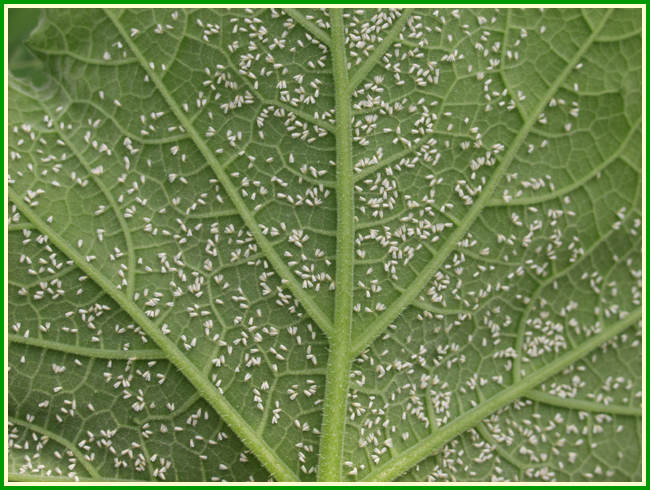whitefly: (220, 102, 229, 114), (288, 152, 295, 165), (353, 302, 361, 313), (261, 288, 272, 296), (416, 97, 425, 106), (256, 118, 264, 128), (207, 125, 217, 133), (365, 267, 373, 276), (252, 388, 261, 396), (279, 344, 288, 352), (354, 185, 363, 193), (202, 79, 212, 86), (395, 80, 406, 86), (288, 261, 299, 267), (424, 174, 435, 180), (308, 61, 316, 69), (182, 102, 189, 111), (284, 250, 293, 257), (296, 335, 302, 345), (324, 258, 331, 266), (444, 203, 455, 208), (444, 140, 450, 149), (352, 402, 361, 408), (435, 314, 444, 320), (318, 170, 327, 176), (214, 148, 224, 153), (383, 128, 393, 133), (388, 324, 398, 329), (443, 112, 452, 117), (360, 204, 365, 213), (268, 105, 275, 111)
